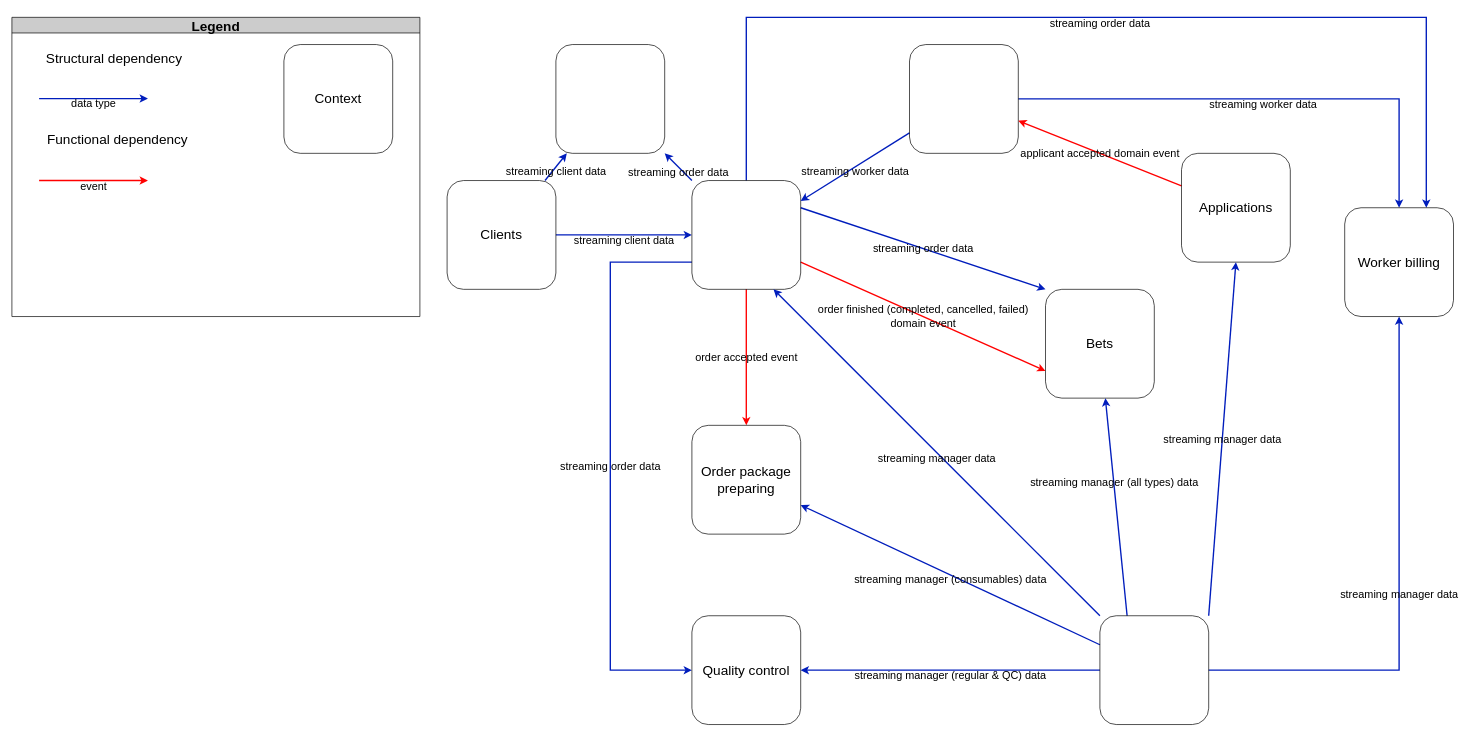
The diagram is 1469 pixels wide and 736 high, and some of its shapes have lost their labels. Each missing label, with the centre of its shape:
Client billing: [610,98]
Managers: [1154,670]
Orders: [746,234]
Workers: [963,98]
